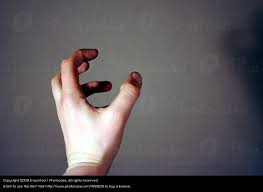hand: (39, 37, 167, 173)
